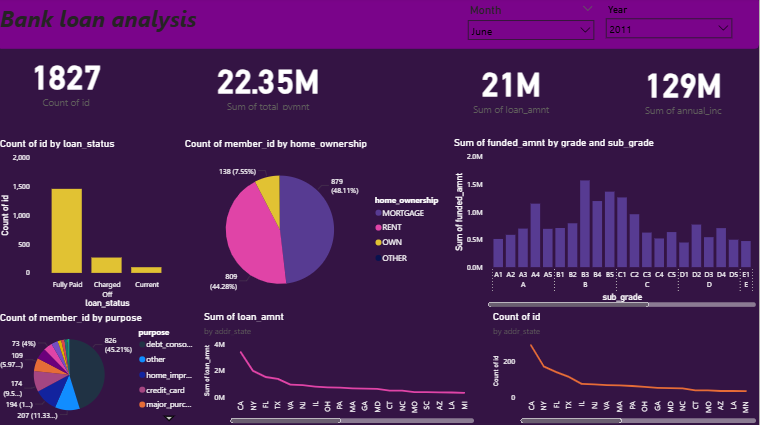

What the dashboard file says about the page in this screenshot:
{"tool":"powerbi","page":{"name":"Page 1","canvas":[1280,720],"ordinal":0},"visuals":[{"type":"shape","box":[0,0,1280,87.3],"z":0},{"type":"card","fields":{"Values":["Count(merged data.id)"]},"box":[0,84,231.8,110.9],"z":1000},{"type":"slicer","fields":{"Values":["merged data.issue_d.Variation.Date Hierarchy.Year"]},"box":[1012.9,5,231.8,82.3],"z":2000},{"type":"slicer","fields":{"Values":["merged data.issue_d.Variation.Date Hierarchy.Month"]},"box":[781.1,5,231.8,67.2],"z":3000},{"type":"card","fields":{"Values":["Sum(merged data.total_pymnt)"]},"box":[342.7,95.7,225.1,99.1],"z":4000},{"type":"card","fields":{"Values":["Sum(merged data.annual_inc)"]},"box":[1039.8,95.7,225.1,114.2],"z":5000},{"type":"card","fields":{"Values":["Sum(merged data.loan_amnt)"]},"box":[747.5,95.7,231.8,109.2],"z":6000},{"type":"lineChart","fields":{"Y":["Sum(merged data.loan_amnt)"],"Category":["merged data.addr_state"]},"box":[342.7,525.8,463.6,194.9],"z":7000},{"type":"pieChart","fields":{"Category":["merged data.purpose"],"Y":["CountNonNull(merged data.member_id)"]},"box":[0,527.5,342.7,193.2],"z":8000},{"type":"pieChart","fields":{"Y":["Count(merged data.member_id)"],"Category":["merged data.home_ownership"]},"box":[310.8,235.2,451.9,290.6],"z":9000},{"type":"columnChart","fields":{"Y":["CountNonNull(merged data.id)"],"Category":["merged data.loan_status"]},"box":[0,235.2,310.8,292.3],"z":10000},{"type":"lineChart","fields":{"Y":["Count(merged data.id)"],"Category":["merged data.addr_state"]},"box":[828.1,525.8,451.9,194.9],"z":11000},{"type":"columnChart","fields":{"Category":["merged data.grade","merged data.sub_grade"],"Y":["Sum(merged data.funded_amnt)"]},"box":[762.6,233.5,517.4,292.3],"z":12000},{"type":"textbox","box":[0,5,537.5,67.2],"z":13000}]}

Visuals, with their boxes in screenshot pixels (x1, y1, x2, y2), scaled from the page's 1280x720 canvas onto the 760x425 screenshot:
shape: Rect(0, 0, 759, 52)
card - Count(merged data.id): Rect(0, 50, 138, 115)
slicer - merged data.issue_d.Variation.Date Hierarchy.Year: Rect(601, 3, 739, 52)
slicer - merged data.issue_d.Variation.Date Hierarchy.Month: Rect(464, 3, 601, 43)
card - Sum(merged data.total_pymnt): Rect(203, 56, 337, 115)
card - Sum(merged data.annual_inc): Rect(617, 56, 751, 124)
card - Sum(merged data.loan_amnt): Rect(444, 56, 581, 121)
lineChart - Sum(merged data.loan_amnt) x merged data.addr_state: Rect(203, 310, 479, 424)
pieChart - merged data.purpose x CountNonNull(merged data.member_id): Rect(0, 311, 203, 424)
pieChart - Count(merged data.member_id) x merged data.home_ownership: Rect(185, 139, 453, 310)
columnChart - CountNonNull(merged data.id) x merged data.loan_status: Rect(0, 139, 185, 311)
lineChart - Count(merged data.id) x merged data.addr_state: Rect(492, 310, 759, 424)
columnChart - merged data.grade x merged data.sub_grade: Rect(453, 138, 759, 310)
textbox: Rect(0, 3, 319, 43)
